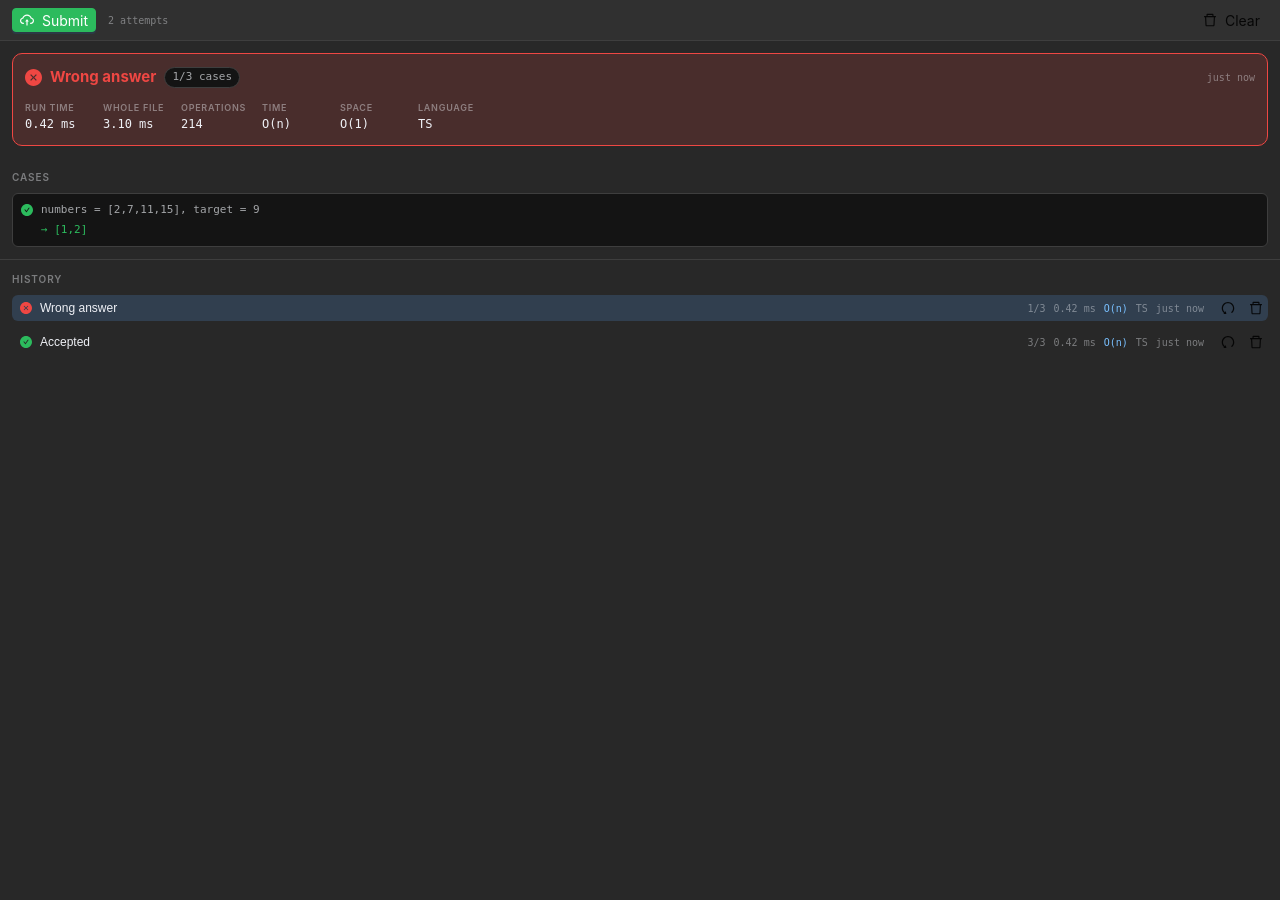
Scenario: SubmissionsPanel › lists the history, and shows whichever attempt you pick
Expected: the heading "Wrong answer" is shown, [50,66,156,88]
Step 1. Click the button "Accepted 3/3 0.42 ms O(n) TS just now" → (65, 342), box [12,329,1212,355]
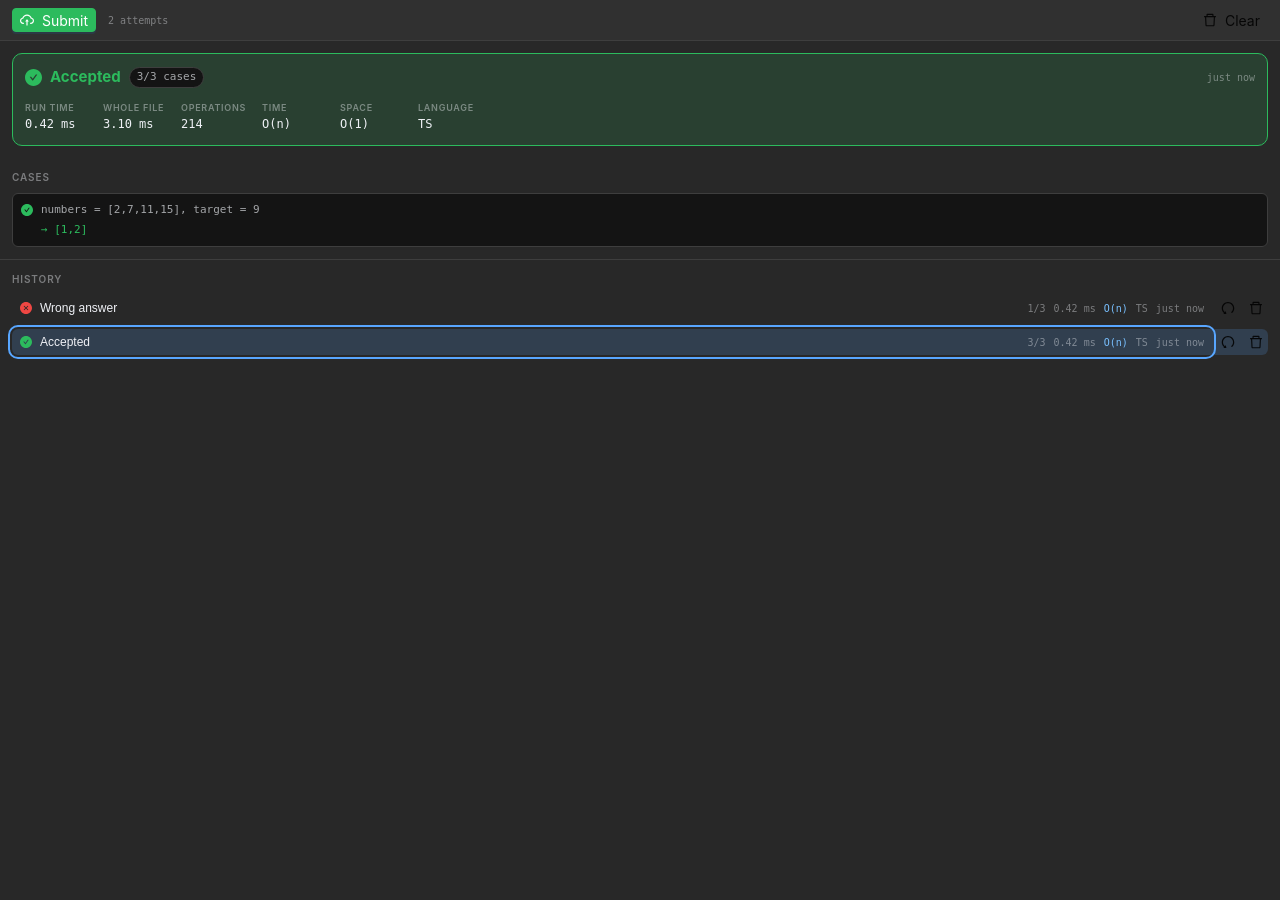
Now the heading "Accepted" is shown, box [50,66,121,88]
